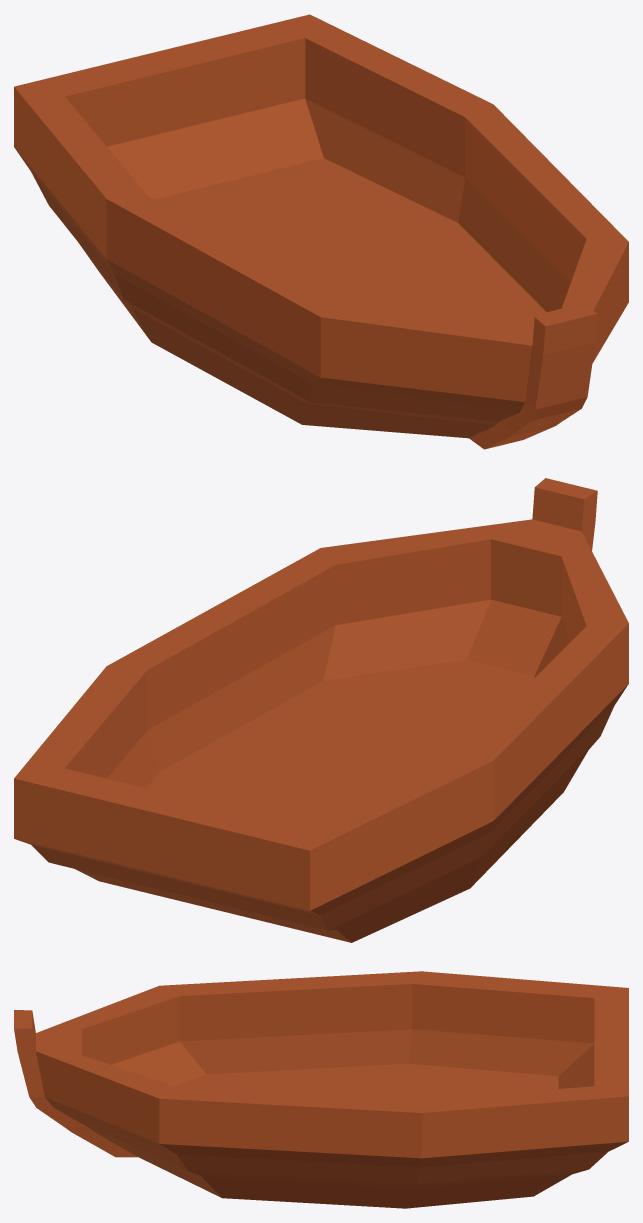
File: rowboat.glb
The picture shows the model from 3 angles, top to bottom: view 1: azimuth 30°, elevation 25°; view 2: azimuth 150°, elevation 25°; view 3: azimuth 270°, elevation 25°; orthographic projection. The views are drawn at different scales.
Visible parts, largest first — view 1: Boat; view 2: Boat; view 3: Boat.
Part boxes in pixels (left/top/right/bottom): Boat: left=14, top=14, right=628, bottom=449; Boat: left=14, top=478, right=628, bottom=942; Boat: left=14, top=971, right=628, bottom=1208.
Size of the model in its own units: 36.45 by 15.69 by 66.84.
